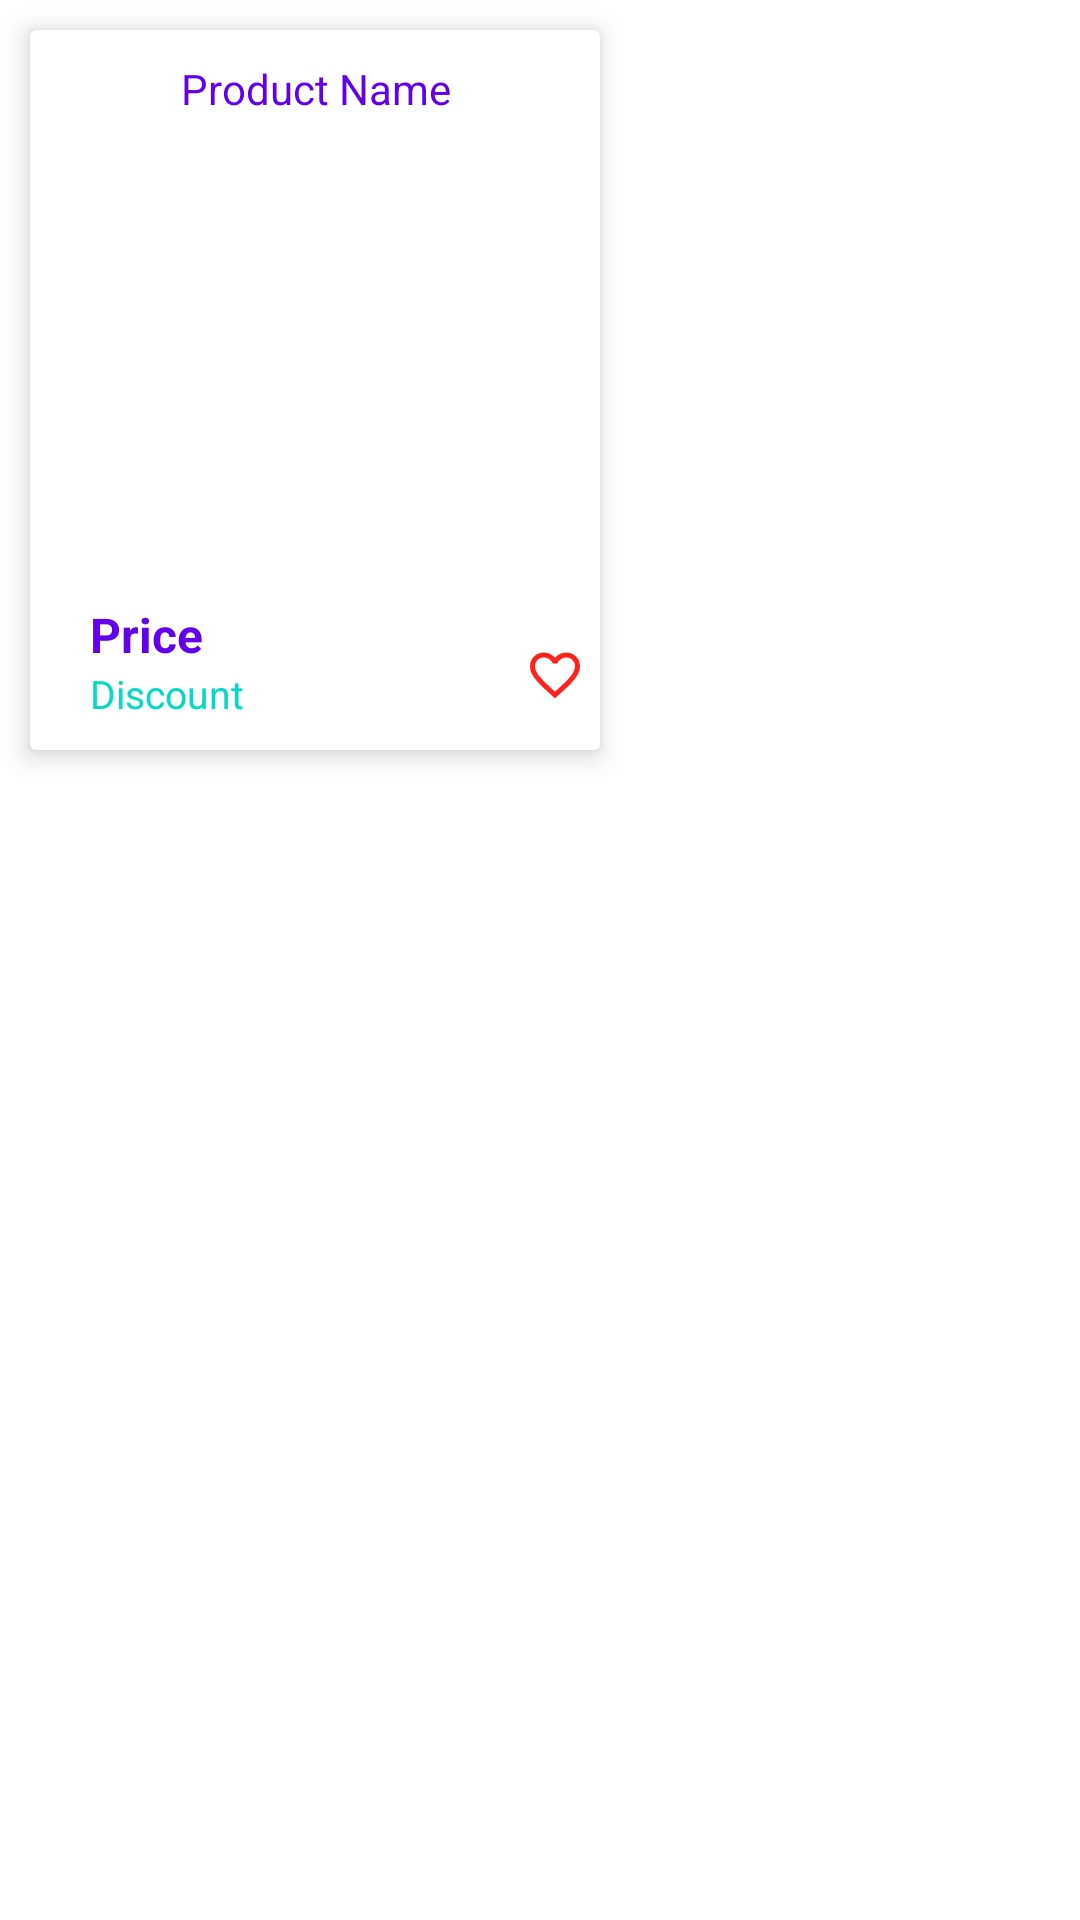

Where icons sit on this 1080 x 1920 app screen, as detection(x1, y1, x2, y2):
favorite: detection(530, 652, 580, 698)
